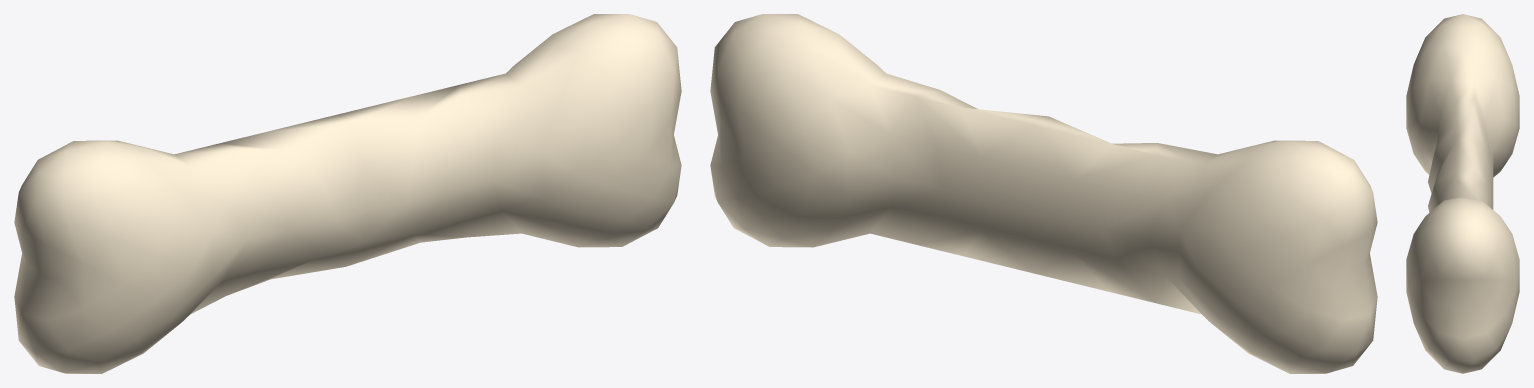
The model's file is 5x7GOmvt0Tk.glb.
3 views of the same model, side by side, from view 1: azimuth 30°, elevation 25°; view 2: azimuth 150°, elevation 25°; view 3: azimuth 270°, elevation 25° (orthographic). The views are drawn at different scales.
Visible parts, largest first — view 1: Symmetry.1; view 2: Symmetry.1; view 3: Symmetry.1.
Boxes of the visible parts, <box> form: Symmetry.1: <box>14,14,681,373</box>; Symmetry.1: <box>710,14,1377,373</box>; Symmetry.1: <box>1406,14,1519,373</box>.
Size of the model in its own units: 3.07 by 0.9999 by 0.6363.
